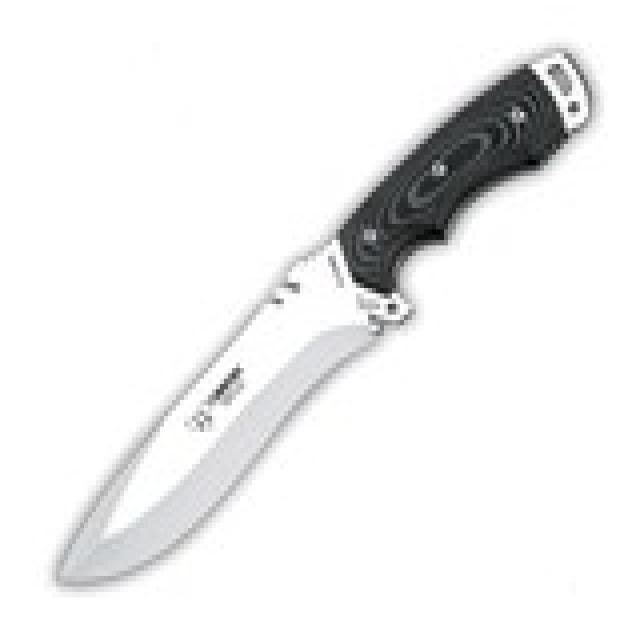Knife: (42, 46, 595, 595)
